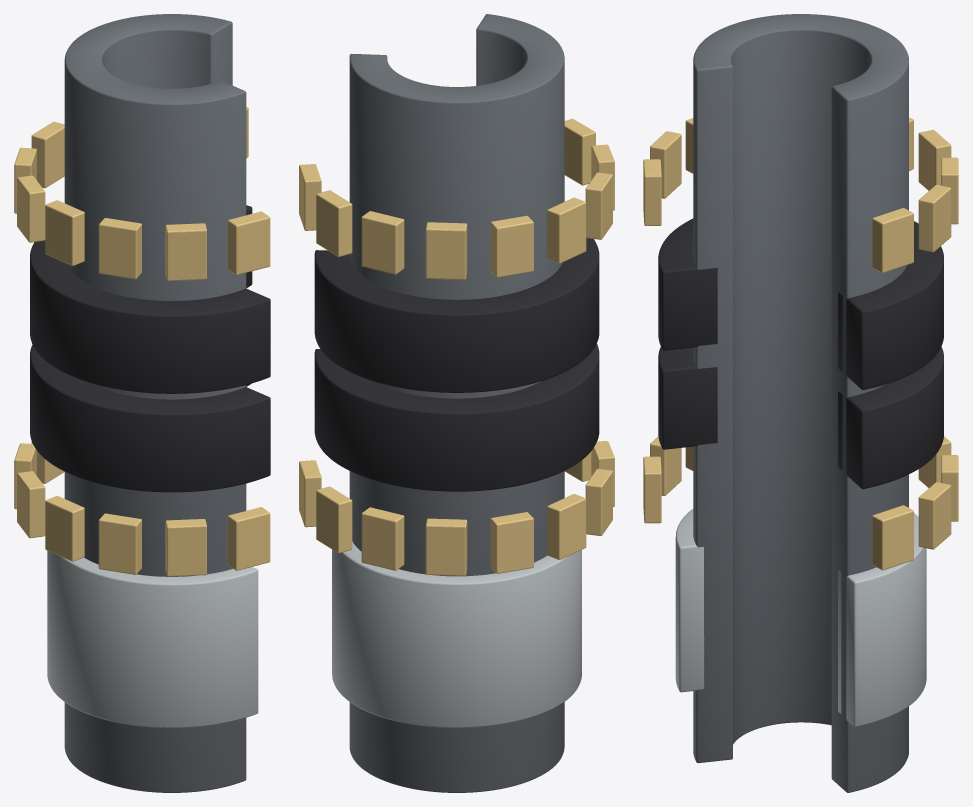
File: permanent-packer.glb
3 views of the same model, side by side, from view 1: azimuth 30°, elevation 25°; view 2: azimuth 150°, elevation 25°; view 3: azimuth 270°, elevation 25° (orthographic).
Parts seen in each view (by area): view 1: Polished bore receptacle, Cast body, Seal element upper, Seal element lower, Lower permanent slip 7, Upper permanent slip 7, Lower permanent slip 9, Upper permanent slip 9, Lower permanent slip 8, Upper permanent slip 8, Lower permanent slip 6, Upper permanent slip 6 (+6 smaller); view 2: Polished bore receptacle, Cast body, Seal element upper, Seal element lower, Upper permanent slip 4, Lower permanent slip 4, Lower permanent slip 2, Upper permanent slip 2, Upper permanent slip 3, Lower permanent slip 3, Lower permanent slip 5, Upper permanent slip 5 (+9 smaller); view 3: Polished bore receptacle, Cast body, Seal element upper, Seal element lower, Lower permanent slip 0, Upper permanent slip 0, Upper permanent slip 1, Lower permanent slip 1, Upper permanent slip 3, Upper permanent slip 8, Lower permanent slip 9, Upper permanent slip 9 (+4 smaller).
Part boxes in pixels (<box>): Polished bore receptacle: <box>64,14,246,792</box>; Cast body: <box>47,550,258,727</box>; Seal element upper: <box>30,205,270,393</box>; Seal element lower: <box>30,345,270,492</box>; Lower permanent slip 7: <box>98,513,141,574</box>; Upper permanent slip 7: <box>98,218,141,279</box>; Lower permanent slip 9: <box>227,507,270,570</box>; Upper permanent slip 9: <box>227,211,270,274</box>; Lower permanent slip 8: <box>165,519,206,576</box>; Upper permanent slip 8: <box>165,223,206,280</box>; Lower permanent slip 6: <box>45,496,84,561</box>; Upper permanent slip 6: <box>45,200,84,265</box>; Polished bore receptacle: <box>349,14,564,792</box>; Cast body: <box>332,541,581,727</box>; Seal element upper: <box>314,238,599,392</box>; Seal element lower: <box>314,343,599,491</box>; Upper permanent slip 4: <box>490,215,533,277</box>; Lower permanent slip 4: <box>490,512,533,573</box>; Lower permanent slip 2: <box>361,507,404,570</box>; Upper permanent slip 2: <box>361,211,404,274</box>; Upper permanent slip 3: <box>425,222,467,279</box>; Lower permanent slip 3: <box>425,518,467,575</box>; Lower permanent slip 5: <box>547,494,586,559</box>; Upper permanent slip 5: <box>547,197,586,263</box>; Polished bore receptacle: <box>693,14,908,792</box>; Cast body: <box>675,509,926,726</box>; Seal element upper: <box>658,218,943,389</box>; Seal element lower: <box>658,346,943,489</box>; Lower permanent slip 0: <box>872,505,913,570</box>; Upper permanent slip 0: <box>872,208,913,272</box>; Upper permanent slip 1: <box>918,184,951,252</box>; Lower permanent slip 1: <box>918,482,951,549</box>; Upper permanent slip 3: <box>918,130,951,190</box>; Upper permanent slip 8: <box>650,131,681,198</box>; Lower permanent slip 9: <box>643,456,661,523</box>; Upper permanent slip 9: <box>643,159,661,225</box>.
Bounding box in the file's own units: 2.01 × 5.25 × 2.16.
